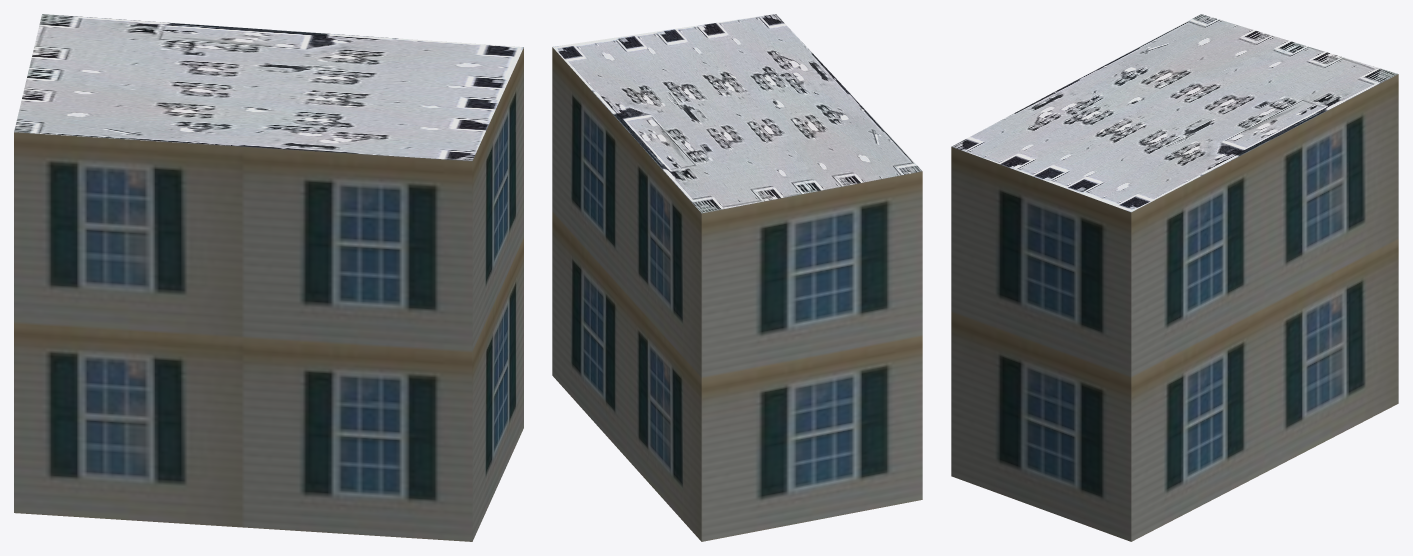
The model's file is ResTex__2713.fbx.
3 renders of one model, left to right at view 1: azimuth 30°, elevation 25°; view 2: azimuth 150°, elevation 25°; view 3: azimuth 270°, elevation 25°, orthographic. The views are drawn at different scales.
Parts seen in each view (by area): view 1: CityEngineMaterial_7_m, CityEngineMaterial_4_m; view 2: CityEngineMaterial_7_m, CityEngineMaterial_4_m; view 3: CityEngineMaterial_7_m, CityEngineMaterial_4_m.
Part boxes in pixels (<box>): CityEngineMaterial_7_m: <box>14,47,523,541</box>; CityEngineMaterial_4_m: <box>14,14,523,160</box>; CityEngineMaterial_7_m: <box>552,47,922,541</box>; CityEngineMaterial_4_m: <box>552,14,922,213</box>; CityEngineMaterial_7_m: <box>951,74,1398,541</box>; CityEngineMaterial_4_m: <box>951,14,1397,212</box>.
Bounding box in the file's own units: 7.74 × 6 × 7.38.
Materials: 2 (2 with a texture image).
